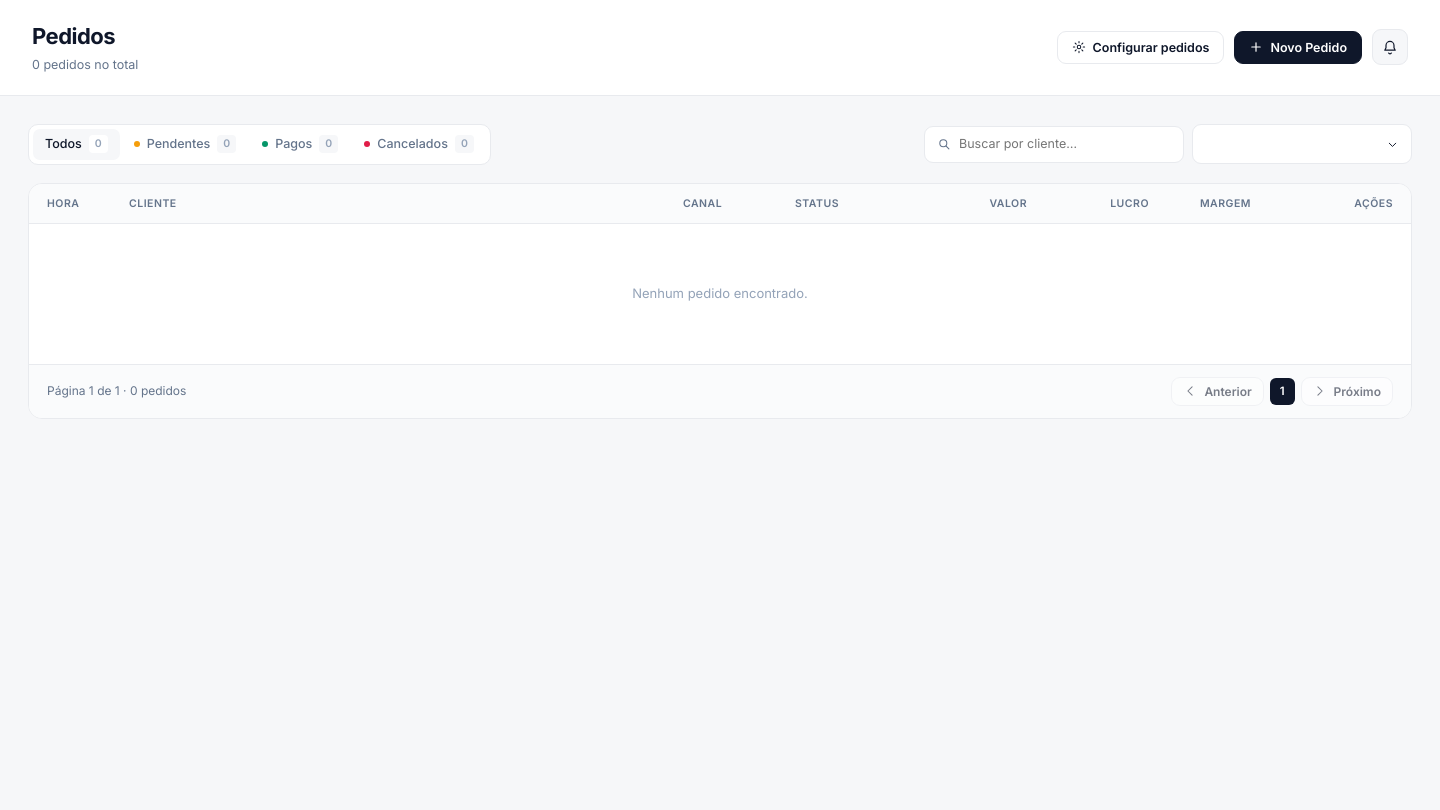
Test: OrdersView › should show a validation error and keep the modal open when no customer is given
Click the button with test id "new-order-button". click: (1298,47)
box: [1234,31,1362,64]
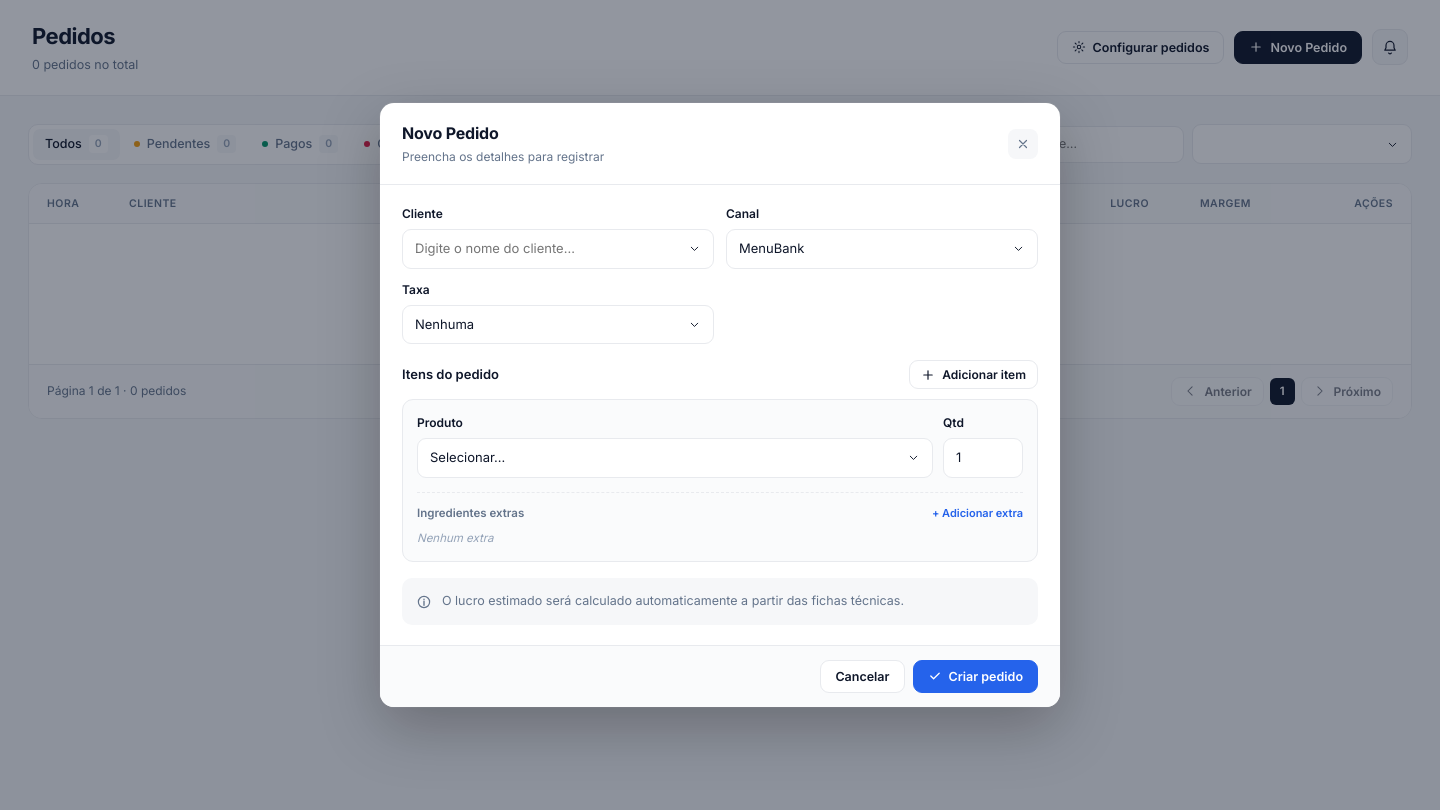
Select "Açaí 330ml — R$ 20,00" in the dropdown with test id "order-item-0-product-select". click: (664,458)
box: [430,444,899,472]
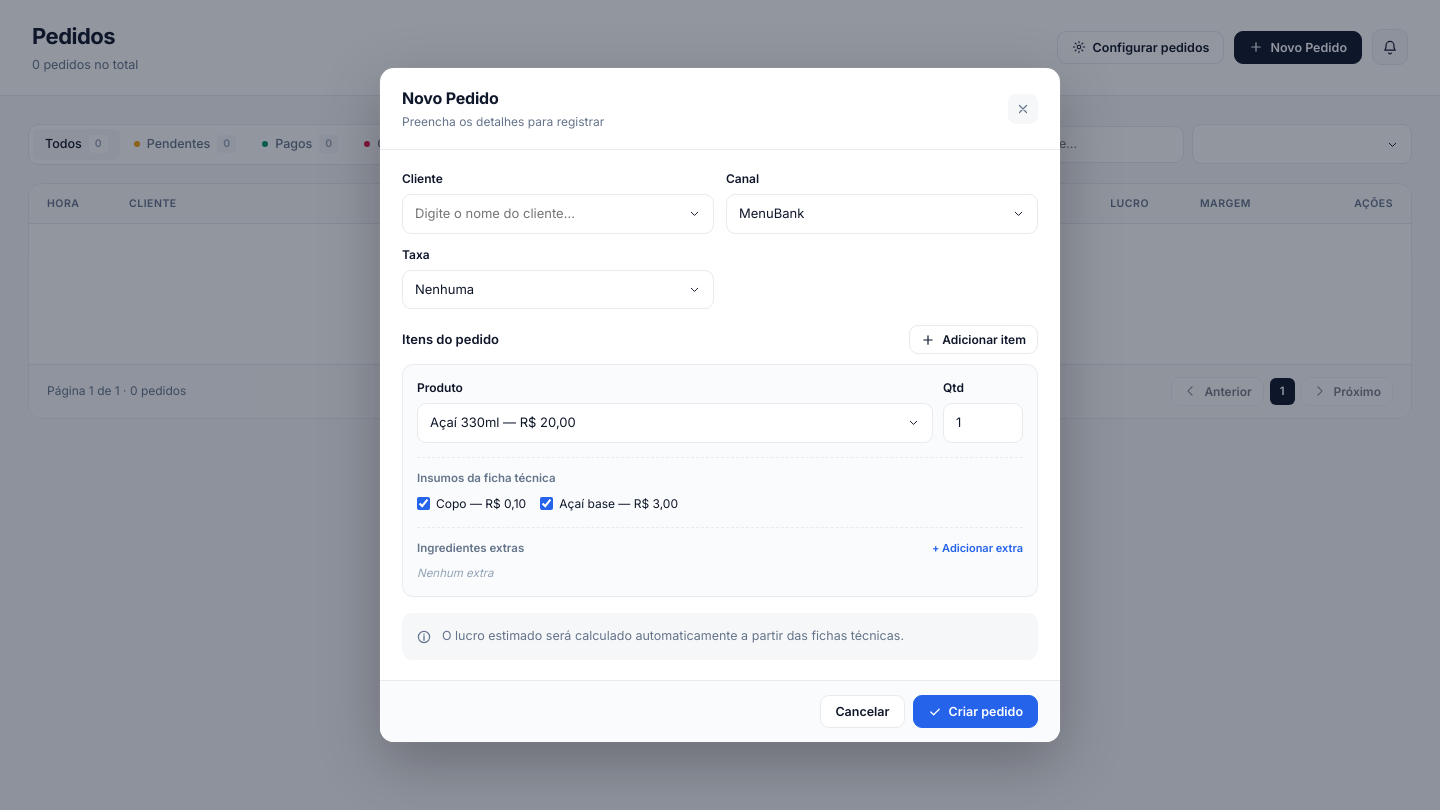
Submit the form, box [402,170,1038,660]
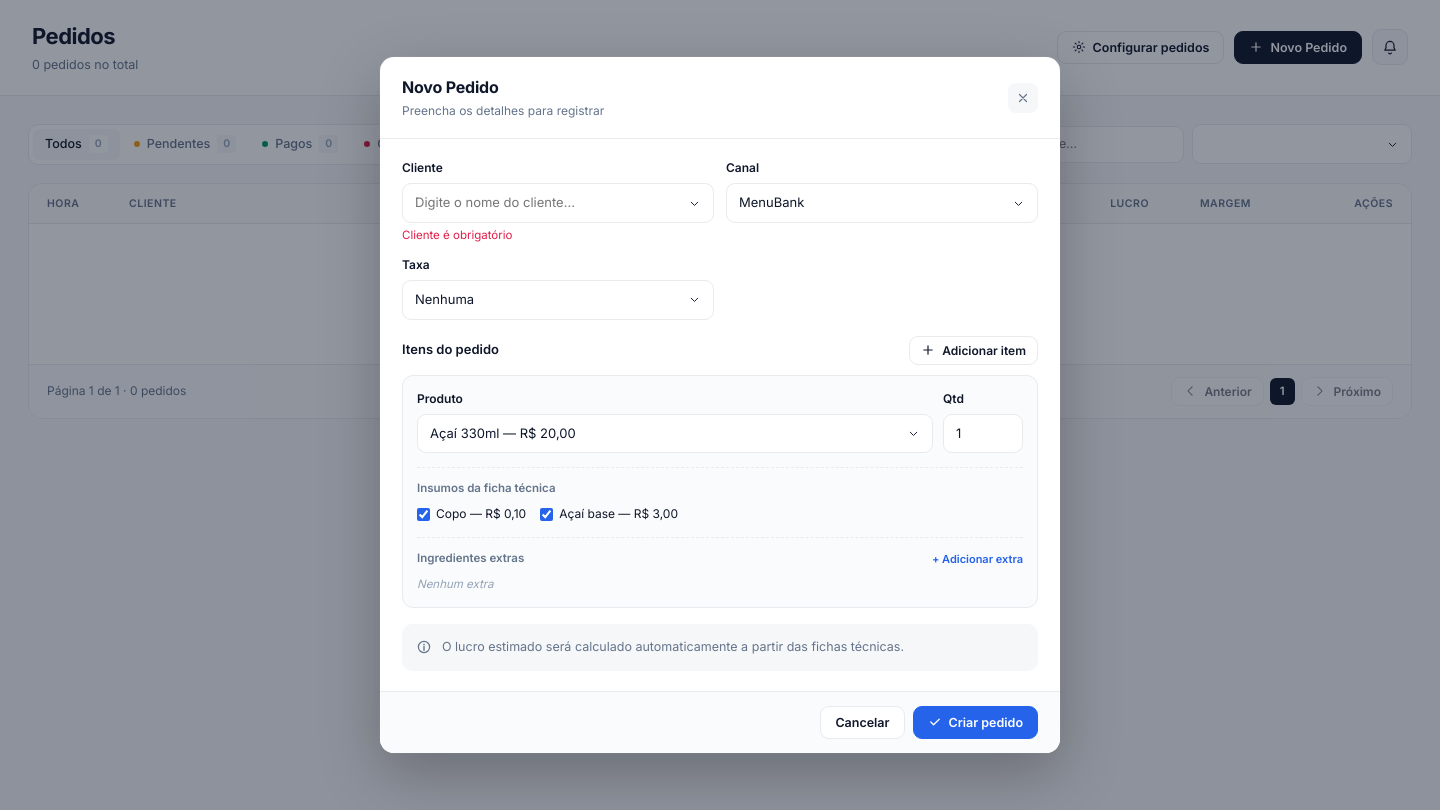
Expected: the text "Novo Pedido" is shown, [402,77,498,97]
Expected: the text with test id "order-customer-error" reads "Cliente é obrigatório", [402,228,512,242]
